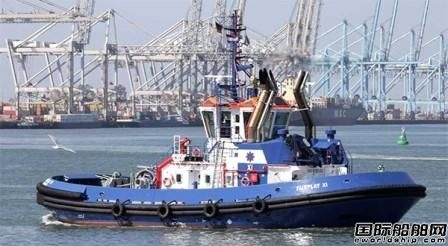otherboat: (41, 23, 430, 230)
